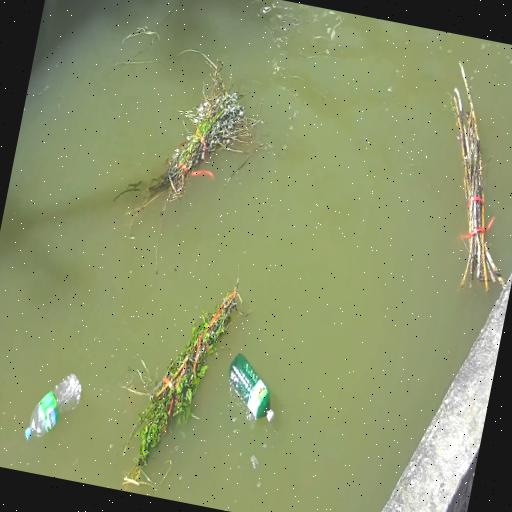plastic: (217, 348, 285, 434), (19, 362, 82, 447)
twig: (123, 282, 236, 504), (407, 59, 512, 295), (149, 74, 258, 222)
